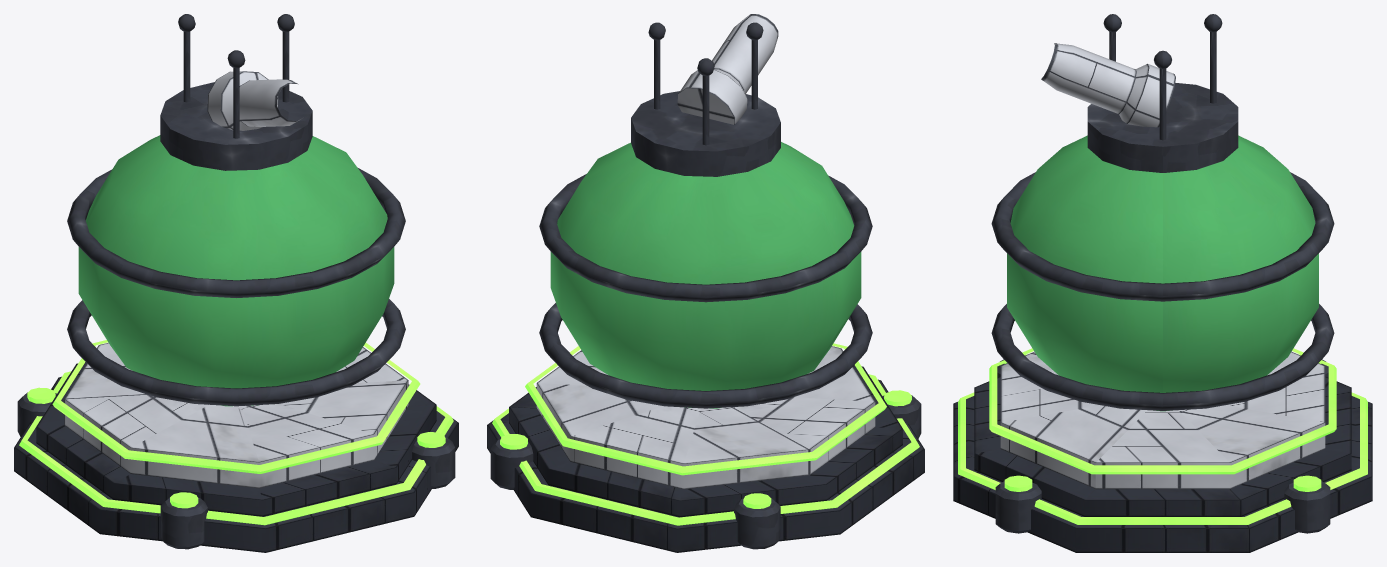
Rendered from sf_plaguepot.glb.
The picture shows the model from 3 angles, left to right: view 1: azimuth 30°, elevation 25°; view 2: azimuth 150°, elevation 25°; view 3: azimuth 270°, elevation 25°; orthographic projection. The views are drawn at different scales.
Visible parts, largest first — view 1: Base, Turret; view 2: Base, Turret; view 3: Base, Turret.
Boxes of the visible parts, left/top/right/bottom form: Base: left=14, top=135, right=458, bottom=552; Turret: left=160, top=14, right=312, bottom=170; Base: left=487, top=142, right=924, bottom=552; Turret: left=631, top=14, right=780, bottom=176; Base: left=953, top=135, right=1372, bottom=552; Turret: left=1041, top=14, right=1238, bottom=172.
Bounding box in the file's own units: 0.8684 × 0.9992 × 0.8684.
5 materials, 5 textured.
